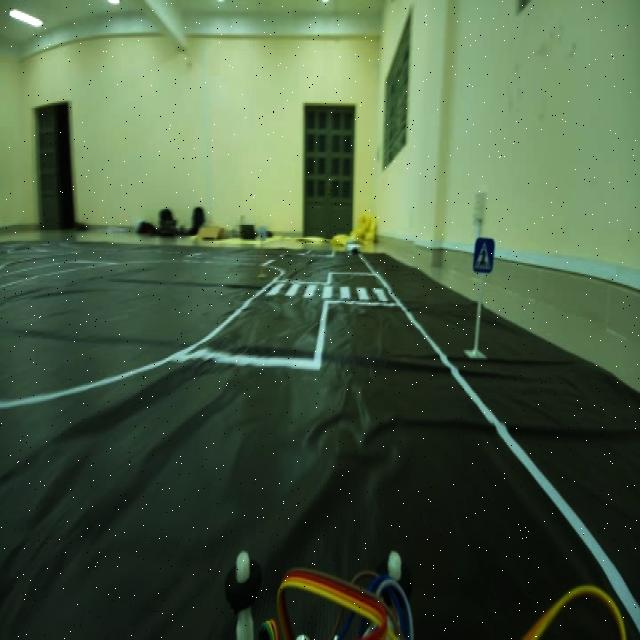crosswalk: (469, 227, 498, 282)
